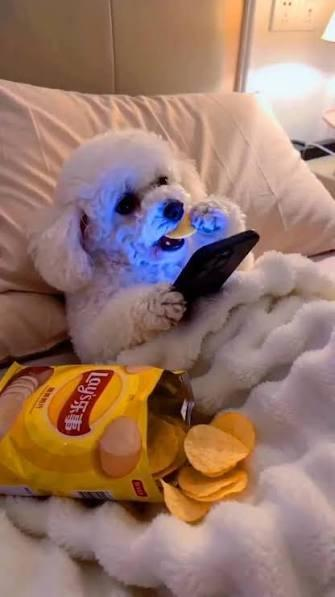adult_dog: (30, 127, 249, 368)
